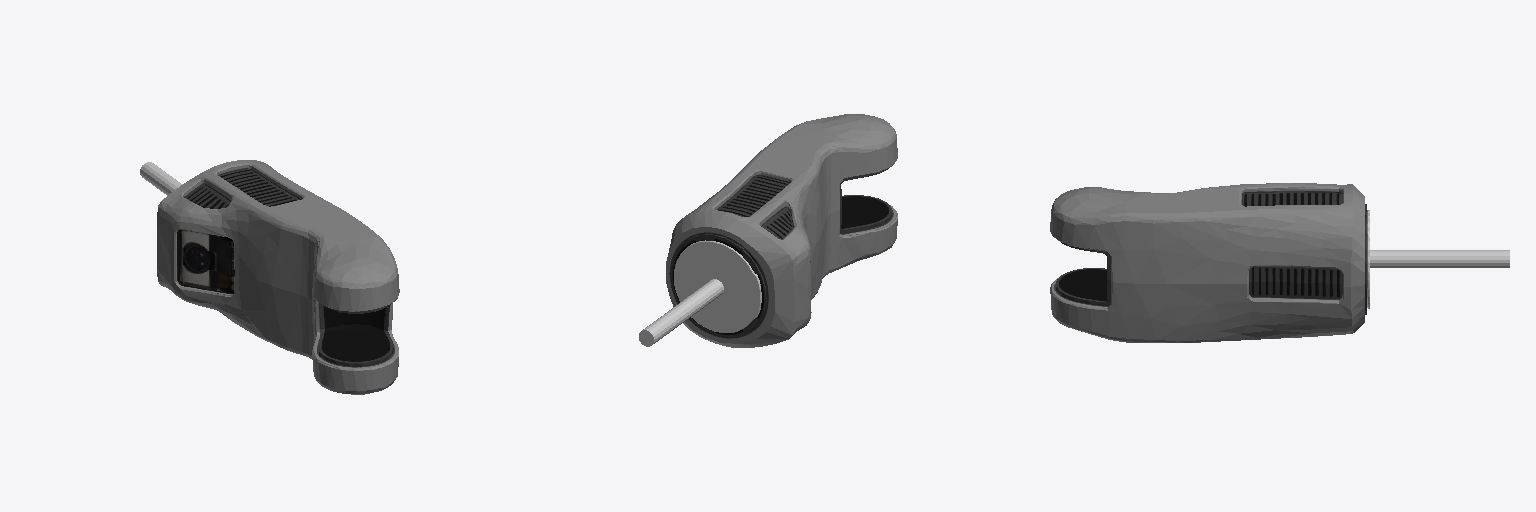
The picture shows the model from 3 angles: view 1: azimuth 30°, elevation 25°; view 2: azimuth 150°, elevation 25°; view 3: azimuth 270°, elevation 25°; orthographic projection.
Parts seen in each view (by area): view 1: /ambf/env/pr2/l_forearm_roll_link_/ambf/env/pr2/l_forearm_roll_l; view 2: /ambf/env/pr2/l_forearm_roll_link_/ambf/env/pr2/l_forearm_roll_l; view 3: /ambf/env/pr2/l_forearm_roll_link_/ambf/env/pr2/l_forearm_roll_l.
Part boxes in pixels (x1,y1,x2,y2): /ambf/env/pr2/l_forearm_roll_link_/ambf/env/pr2/l_forearm_roll_l: (140, 160, 399, 394); /ambf/env/pr2/l_forearm_roll_link_/ambf/env/pr2/l_forearm_roll_l: (639, 114, 897, 347); /ambf/env/pr2/l_forearm_roll_link_/ambf/env/pr2/l_forearm_roll_l: (1050, 183, 1509, 342).
Size of the model in its own units: 0.121 by 0.1201 by 0.3823.
Materials: 2 (1 with a texture image).